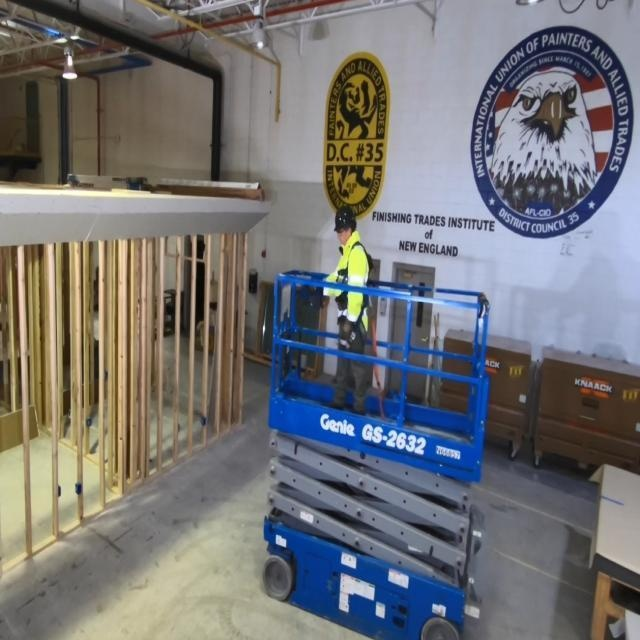Arnes_seguridad: (337, 242, 368, 329)
